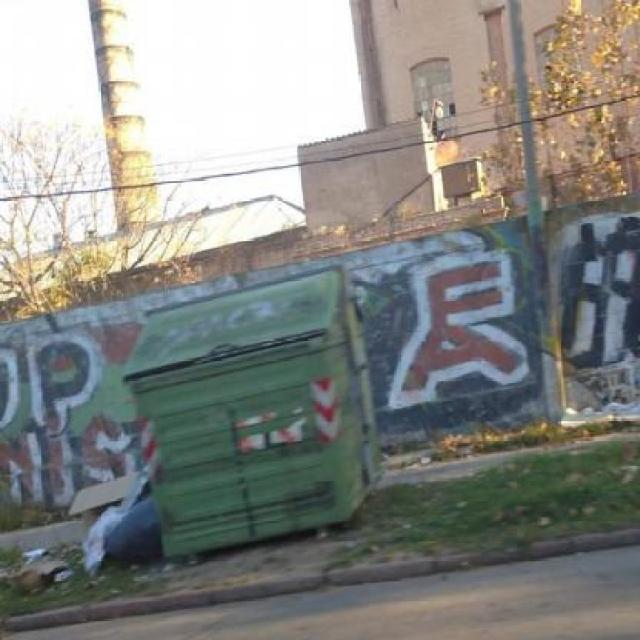garbage: (428, 397, 638, 458), (59, 475, 166, 580), (3, 538, 70, 610)
